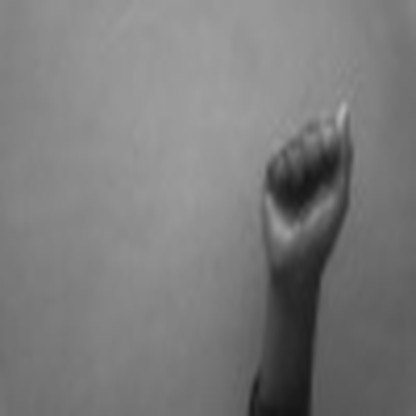a: (253, 86, 362, 269)
